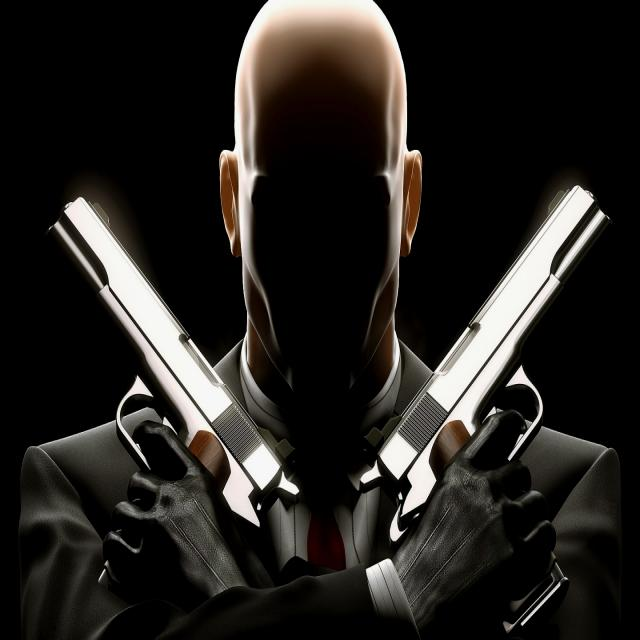pistol: (350, 179, 622, 625), (35, 190, 302, 580)
